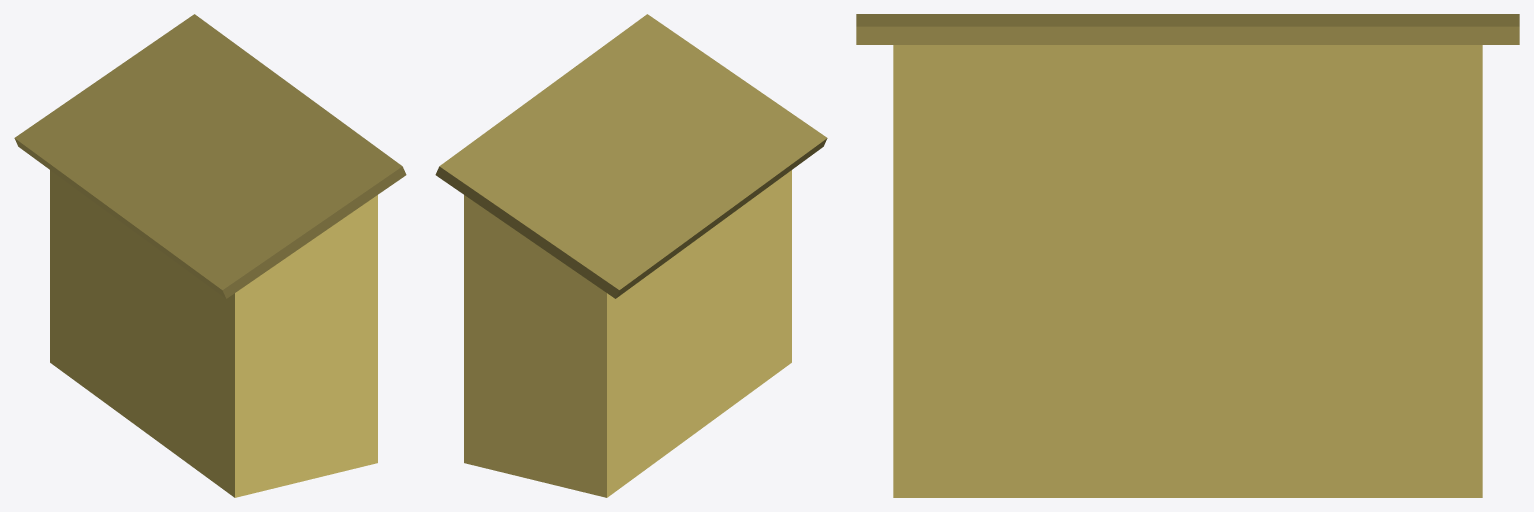
Rendered from result.glb.
3 renders of one model, left to right at view 1: azimuth 30°, elevation 25°; view 2: azimuth 150°, elevation 25°; view 3: azimuth 270°, elevation 25°, orthographic. The views are drawn at different scales.
Parts seen in each view (by area): view 1: 2268ec14-f390-41a7-9755-20daccab87a2__undefined, 3ce0e62b-b3ba-4384-ab4b-b83f8c5b55c8__undefined; view 2: 2268ec14-f390-41a7-9755-20daccab87a2__undefined, 3ce0e62b-b3ba-4384-ab4b-b83f8c5b55c8__undefined; view 3: 2268ec14-f390-41a7-9755-20daccab87a2__undefined, 3ce0e62b-b3ba-4384-ab4b-b83f8c5b55c8__undefined.
Part boxes in pixels (bbox=[...]): 2268ec14-f390-41a7-9755-20daccab87a2__undefined: bbox=[50, 170, 377, 497]; 3ce0e62b-b3ba-4384-ab4b-b83f8c5b55c8__undefined: bbox=[14, 14, 406, 298]; 2268ec14-f390-41a7-9755-20daccab87a2__undefined: bbox=[464, 170, 791, 497]; 3ce0e62b-b3ba-4384-ab4b-b83f8c5b55c8__undefined: bbox=[435, 14, 827, 298]; 2268ec14-f390-41a7-9755-20daccab87a2__undefined: bbox=[893, 45, 1482, 497]; 3ce0e62b-b3ba-4384-ab4b-b83f8c5b55c8__undefined: bbox=[856, 14, 1519, 44].
Bounding box in the file's own units: 457 × 717 × 895.
